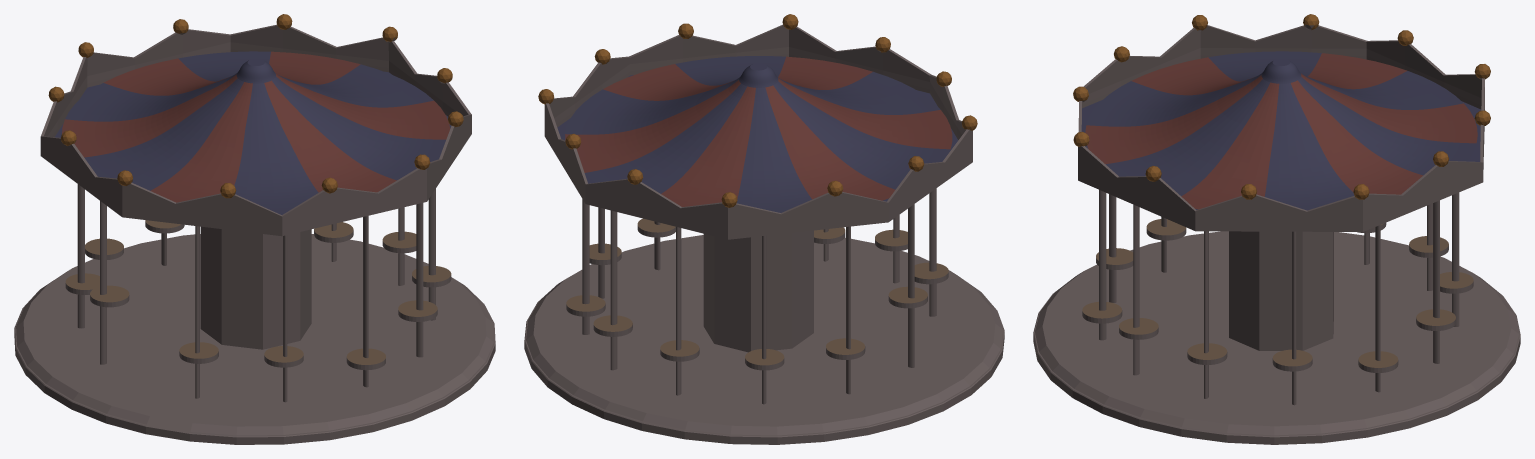
The model's file is carusel.fbx.
3 renders of one model, left to right at view 1: azimuth 30°, elevation 25°; view 2: azimuth 150°, elevation 25°; view 3: azimuth 270°, elevation 25°, orthographic.
Parts seen in each view (by area): view 1: Cylinder.012; view 2: Cylinder.012; view 3: Cylinder.012.
Boxes of the visible parts, <box> form: Cylinder.012: <box>14,14,495,444</box>; Cylinder.012: <box>524,14,1004,444</box>; Cylinder.012: <box>1033,14,1520,444</box>.
Bounding box in the file's own units: 2444 × 1658 × 2444.
